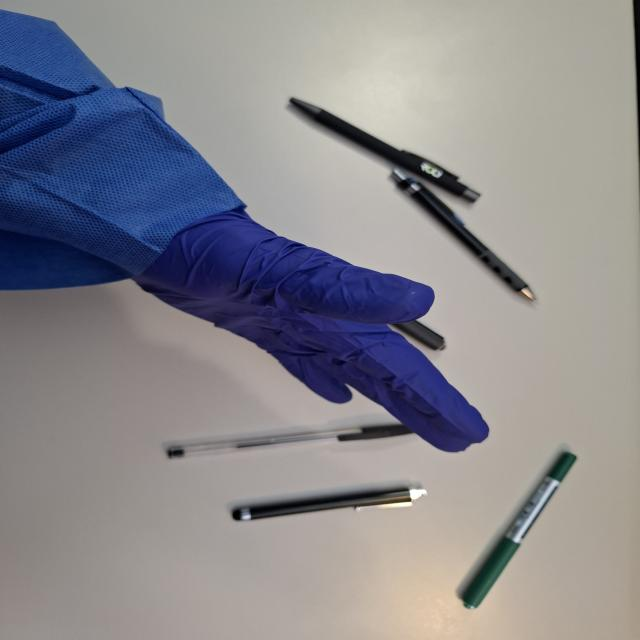glove_on: (119, 203, 494, 458)
